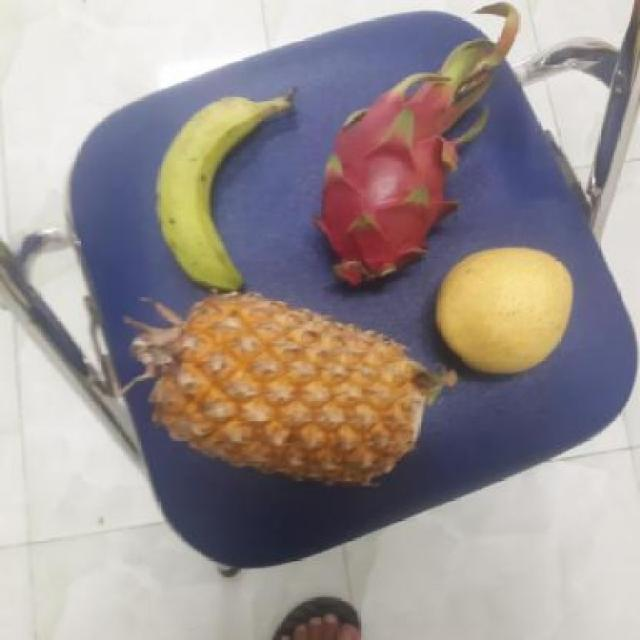banana: (148, 92, 288, 286)
dragon fruit: (307, 94, 465, 286)
pear: (427, 248, 575, 374)
pineapple: (131, 284, 438, 478)
